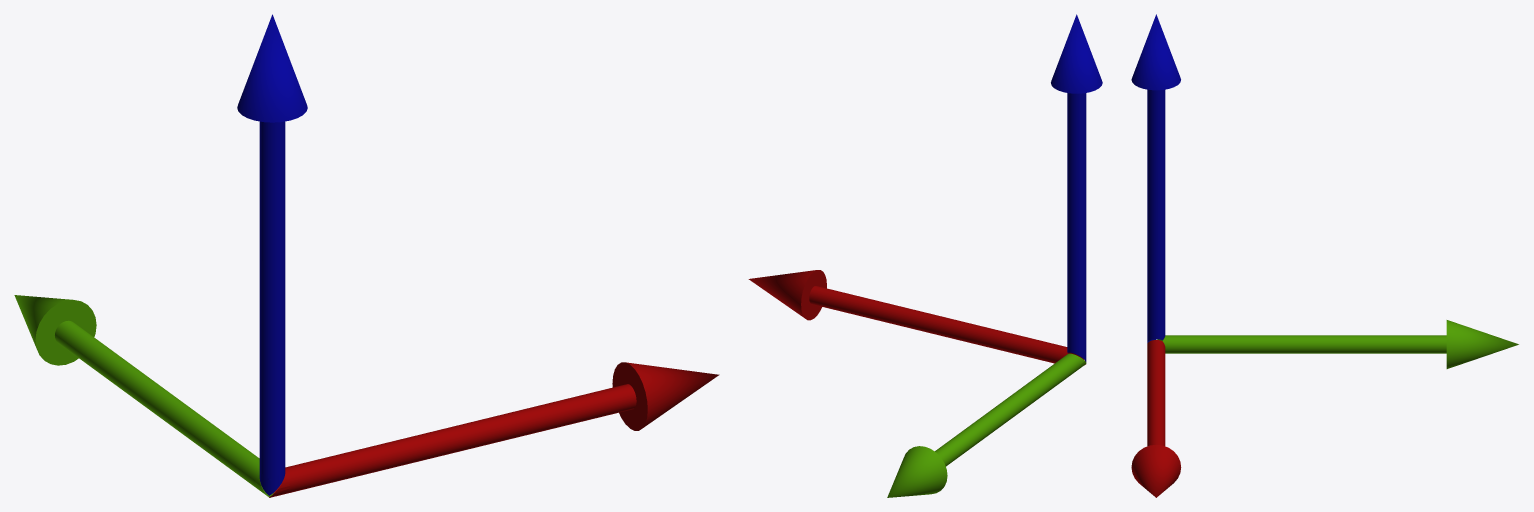
The model's file is axis.fbx.
3 renders of one model, left to right at view 1: azimuth 30°, elevation 25°; view 2: azimuth 150°, elevation 25°; view 3: azimuth 270°, elevation 25°, orthographic. The views are drawn at different scales.
Visible parts, largest first — view 1: Group1, Group3, Group2; view 2: Group1, Group3, Group2; view 3: Group2, Group1, Group3.
Part boxes in pixels (bbox=[...]): Group1: bbox=[237, 14, 307, 495]; Group3: bbox=[269, 362, 719, 497]; Group2: bbox=[14, 295, 274, 497]; Group1: bbox=[1051, 14, 1102, 361]; Group3: bbox=[748, 270, 1085, 364]; Group2: bbox=[887, 353, 1086, 497]; Group2: bbox=[1157, 320, 1518, 368]; Group1: bbox=[1131, 14, 1180, 342]; Group3: bbox=[1131, 340, 1181, 497].
Bounding box in the file's own units: 325 × 327 × 325.
